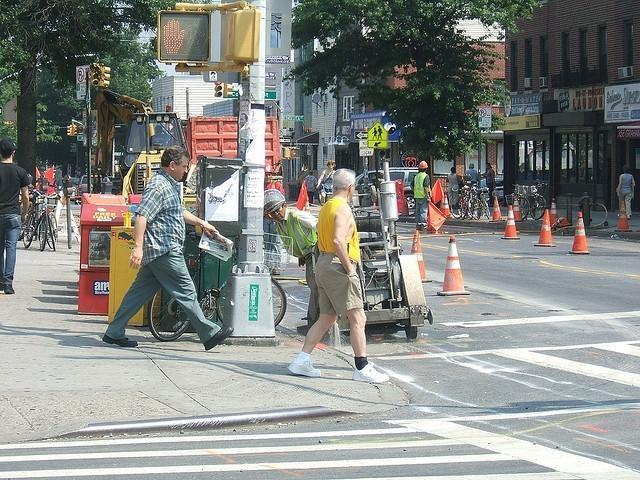bicycle: (147, 281, 284, 342), (21, 189, 61, 252), (526, 178, 547, 220), (468, 184, 491, 220), (513, 183, 529, 220), (46, 203, 58, 251), (452, 190, 468, 220), (462, 192, 470, 208)
car: (356, 169, 420, 208), (481, 177, 504, 202), (74, 176, 89, 197), (70, 176, 78, 196)
truck: (110, 111, 197, 200), (180, 116, 282, 175), (356, 166, 419, 210)
